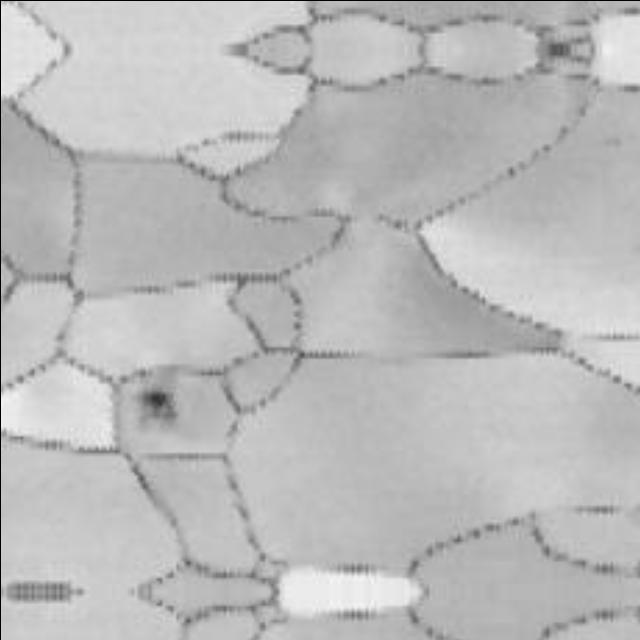good_void: (136, 380, 184, 428)
